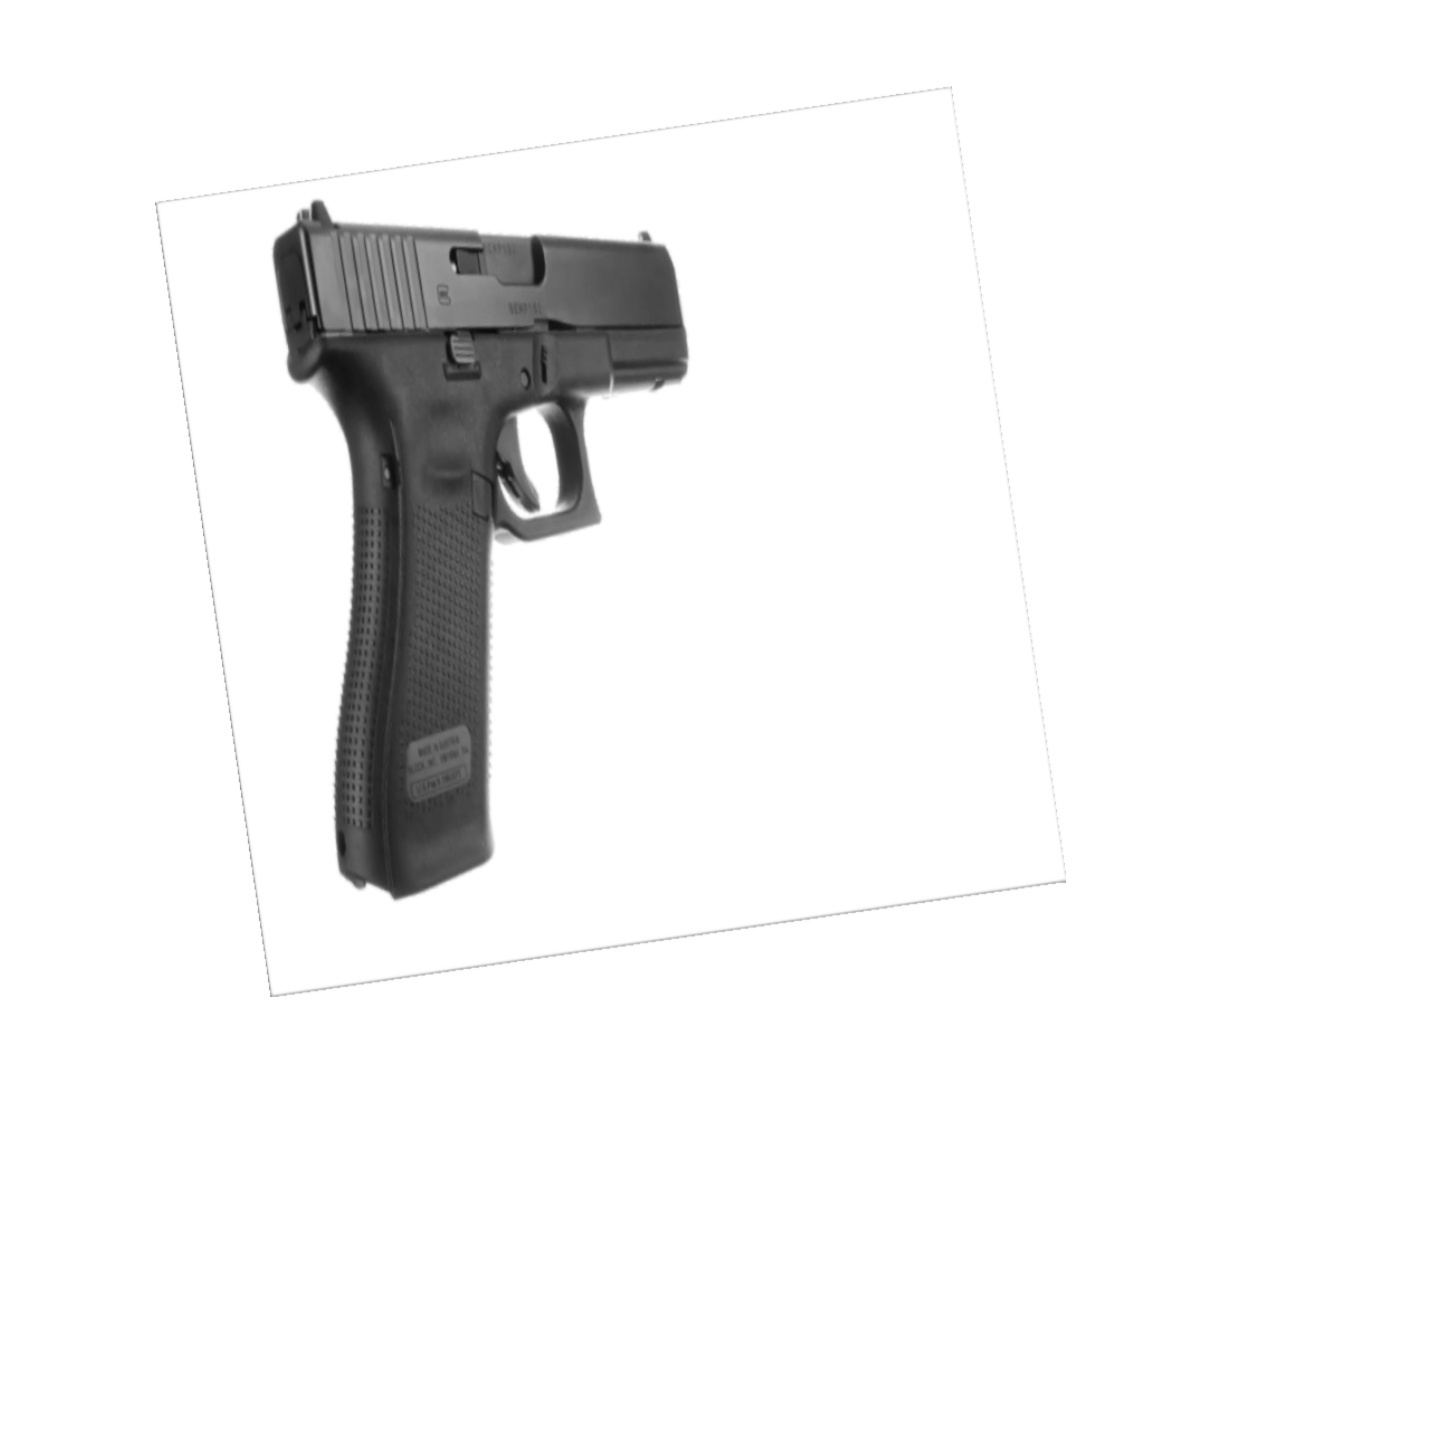gun: (263, 195, 702, 913)
